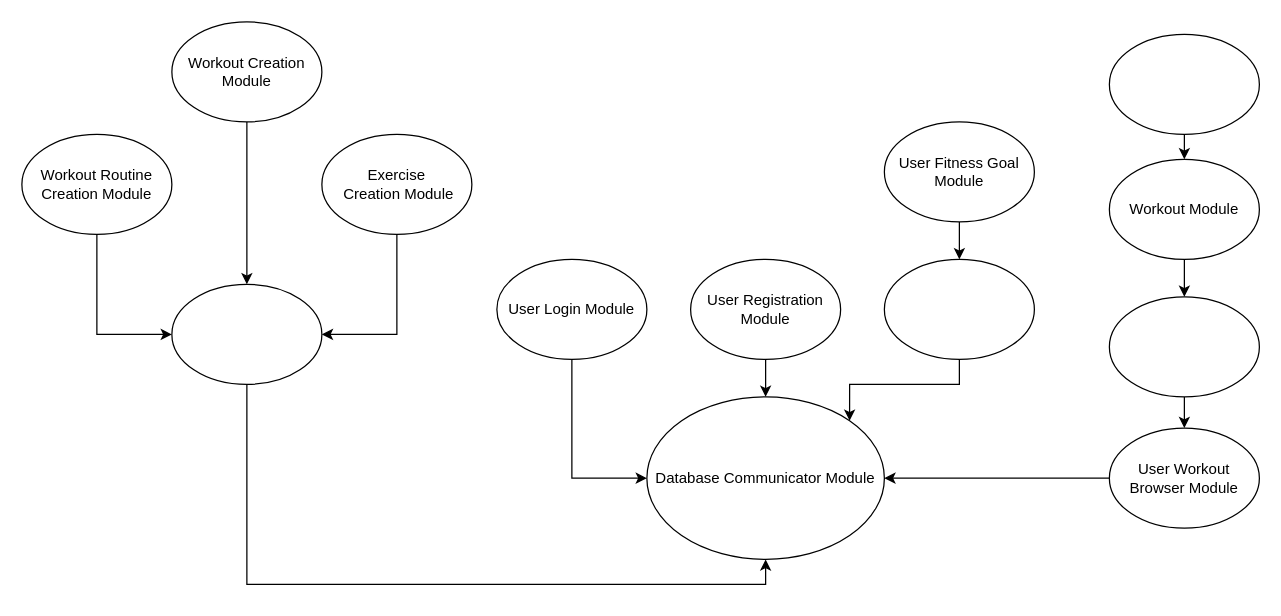
Image size: 1281x616. Some labels were removed from this diagram. The shapes that lost their labels are listed below. From the top down, each one's centre as x and y in pixels, then its label:
At (1183,83): "Exercise Module".
At (958,308): "User Profile Module".
At (246,333): "Creation Module".
At (1183,346): "Workout Routine Module".
